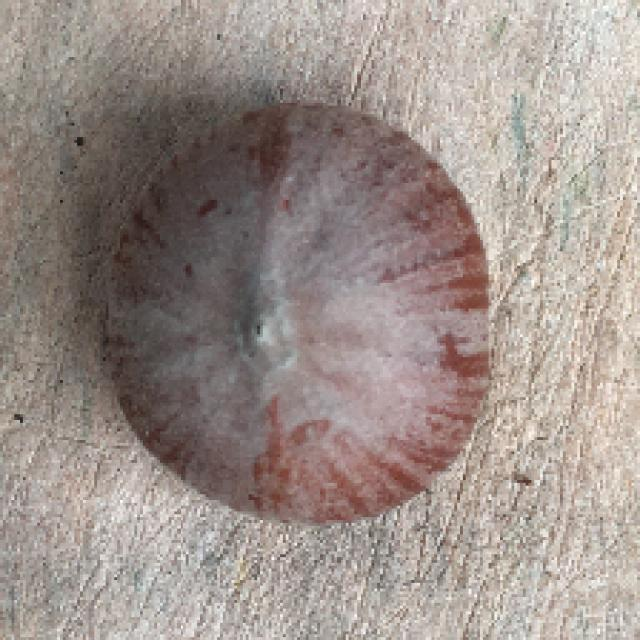qualityHazelnut: (92, 91, 498, 529)
